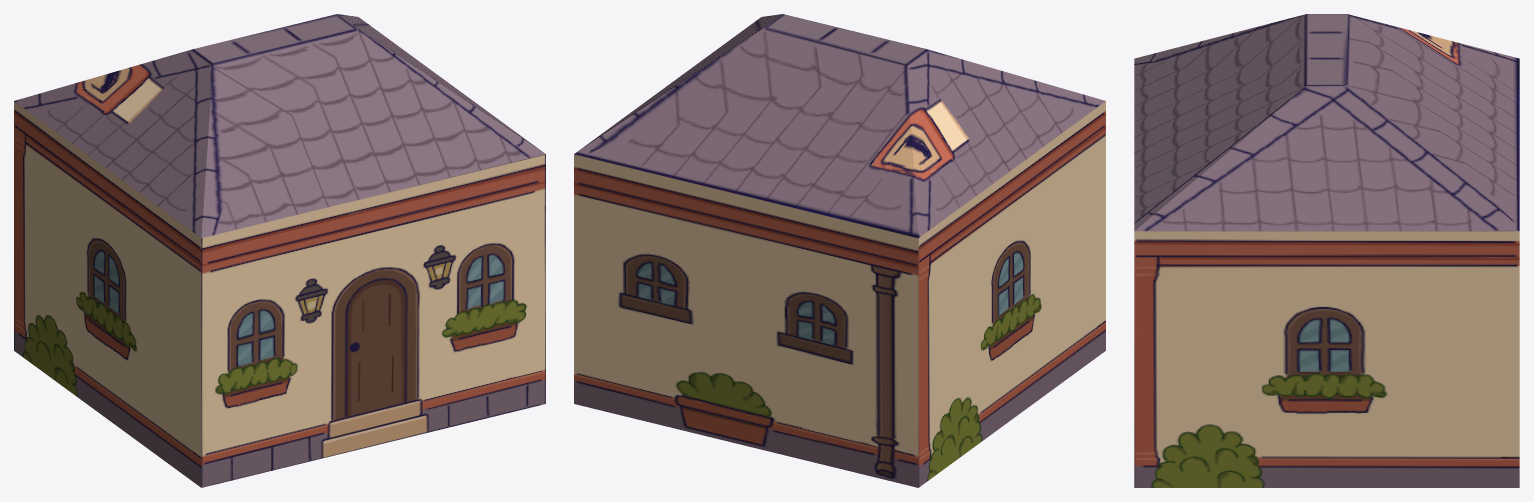
Rendered from basic_house.glb.
The picture shows the model from 3 angles, left to right: view 1: azimuth 30°, elevation 25°; view 2: azimuth 150°, elevation 25°; view 3: azimuth 270°, elevation 25°; orthographic projection. The views are drawn at different scales.
Parts seen in each view (by area): view 1: Cube; view 2: Cube; view 3: Cube.
Boxes of the visible parts, bbox=[...] form: Cube: bbox=[14, 14, 545, 487]; Cube: bbox=[574, 14, 1105, 487]; Cube: bbox=[1134, 14, 1519, 487].
Size of the model in its own units: 2.12 by 2 by 2.
1 material, 1 textured.
